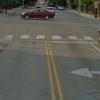Crosswalk: (5, 28, 94, 56)
